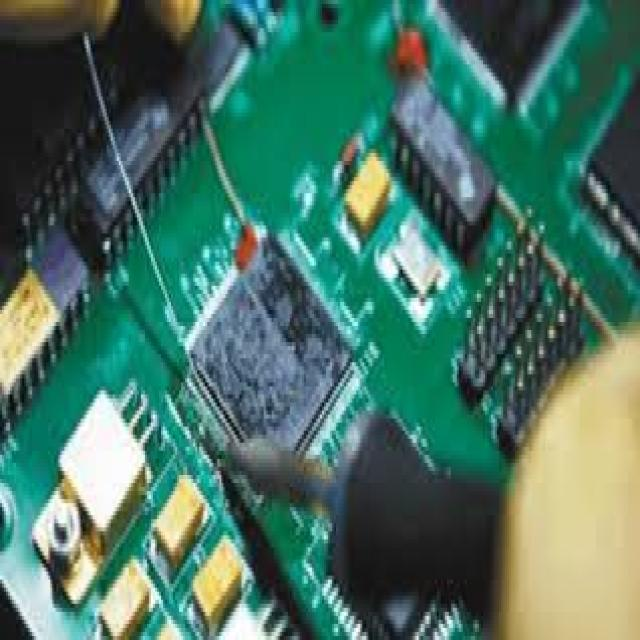pcb: (0, 0, 638, 636), (2, 374, 300, 636), (181, 221, 352, 467), (455, 205, 586, 459), (62, 48, 206, 270), (387, 68, 497, 262), (0, 213, 91, 431), (56, 382, 147, 552), (374, 205, 455, 334), (0, 0, 121, 44), (390, 217, 441, 302), (219, 0, 287, 52)
